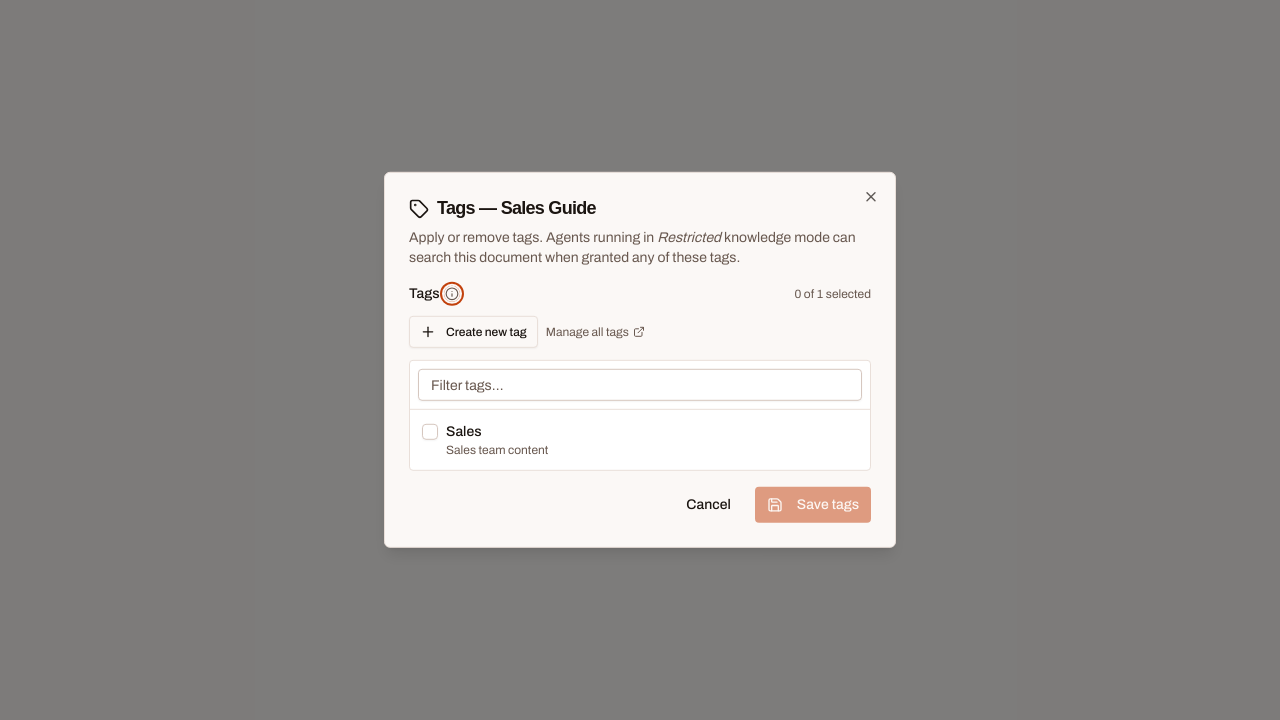
Test: DocumentTagsModal › save › shows "Failed to save tags" for non-APIClientError on save
Expected: the text "Sales" is shown, [446,424,482,439]
Click the checkbox named "apply tag sales". click: (430, 432)
box: [422,424,438,440]
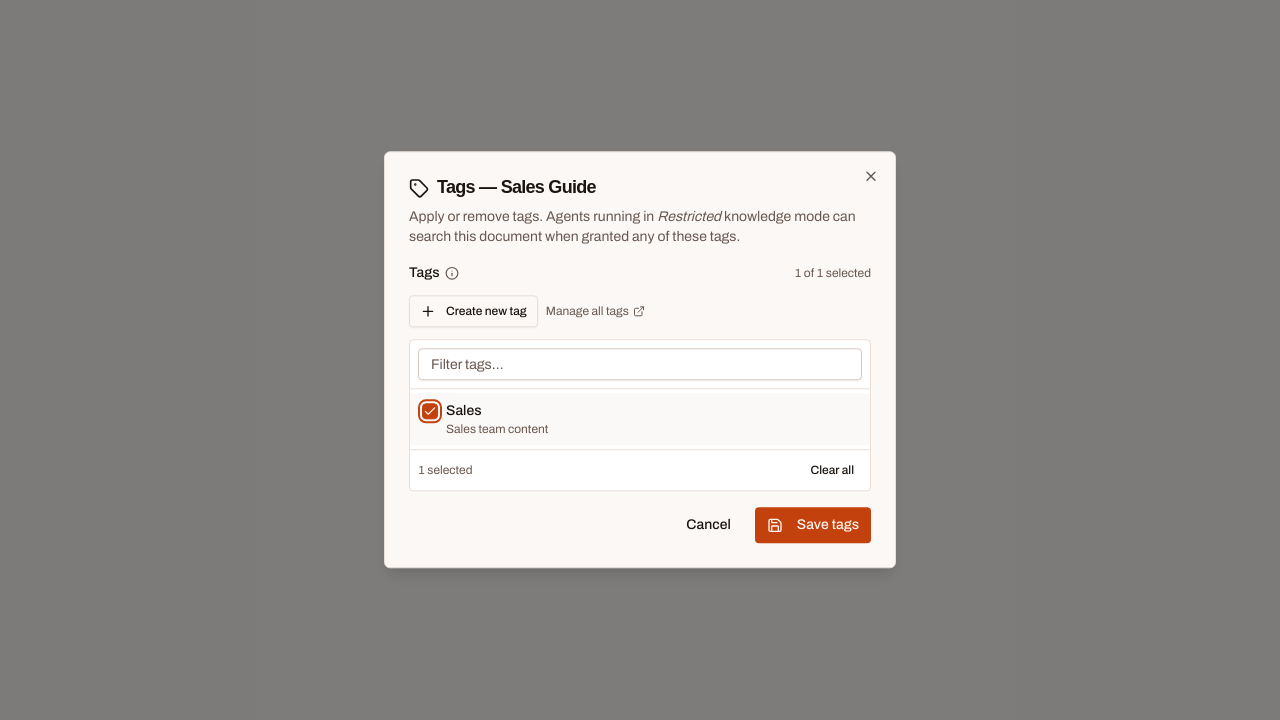
Click the button "Save tags". click: (813, 526)
box: [755,508,871,544]
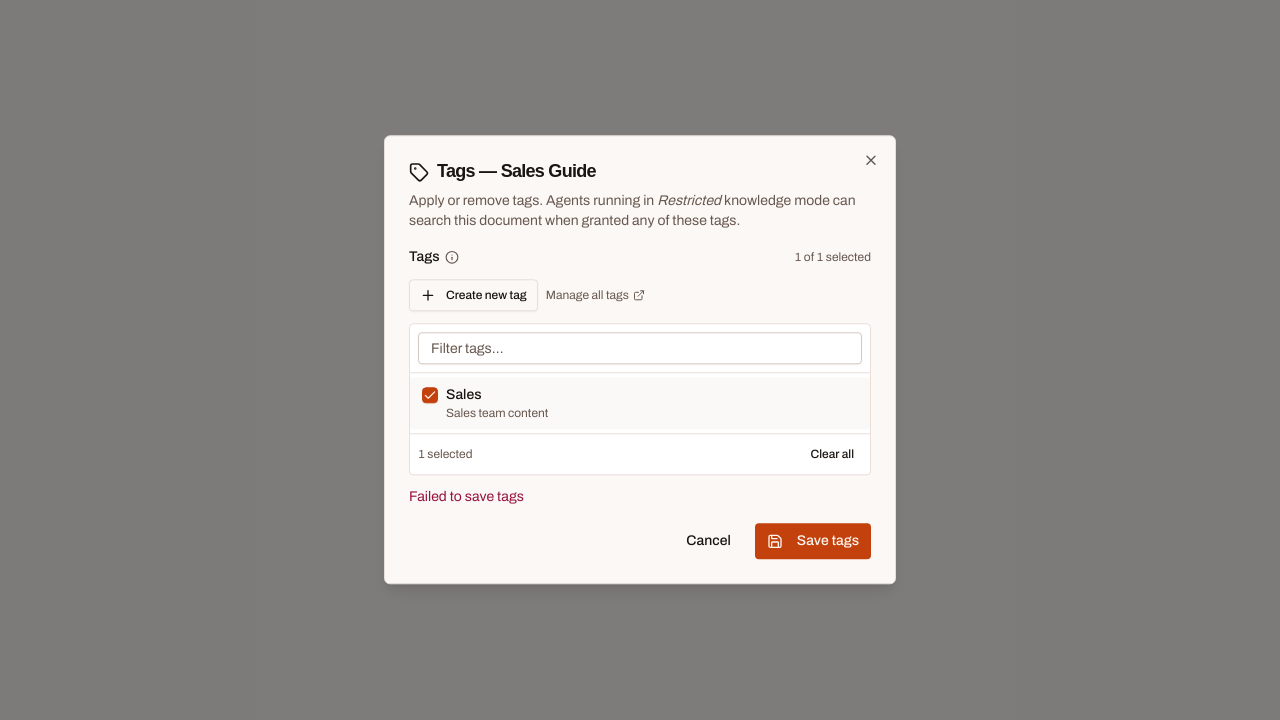
Expected: the text "Failed to save tags" is shown, [409,490,524,505]
